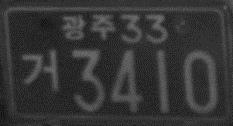0: (183, 48, 218, 117)
1: (153, 48, 172, 115)
3: (69, 47, 106, 112), (118, 13, 142, 44), (143, 13, 167, 42)
4: (109, 47, 144, 114)
거: (20, 48, 60, 94)
광주_O: (61, 11, 115, 42)
